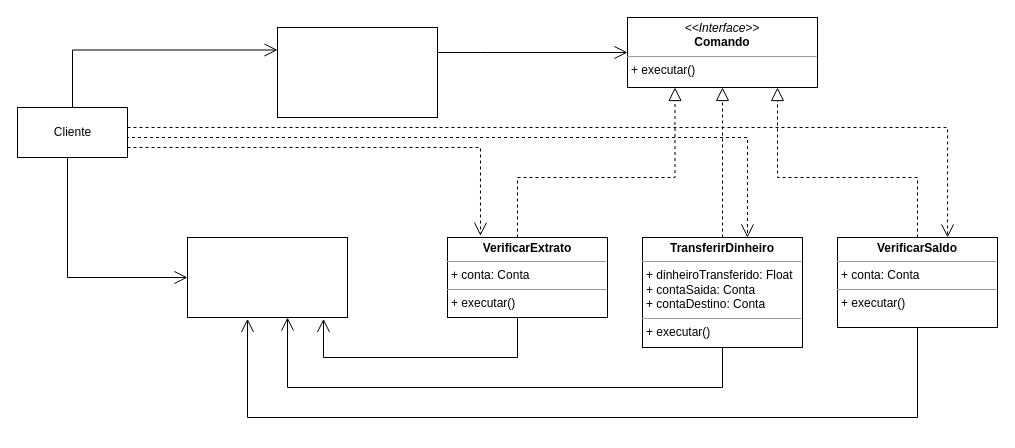
Image size: 1015x448. Some labels were removed from this diagram. The centre of each missing label's shape, as x and y in pixels:
"Conta + saldo: Float + id: String + extrato: String[]" goes at pixel 267 277.
"Invoker + comando: Comando + setComando() + executarComando()" goes at pixel 357 72.
